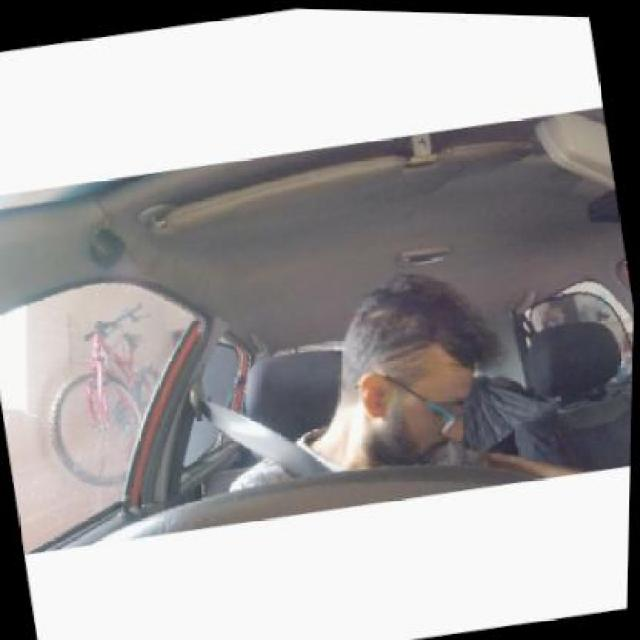drowsy: (338, 268, 488, 472)
